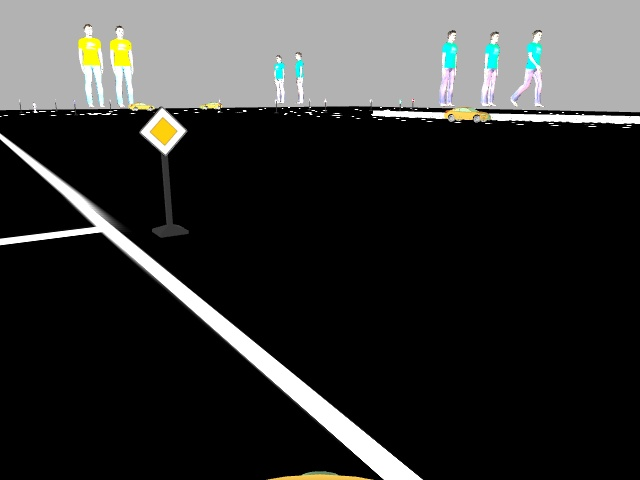Priority: (141, 105, 184, 155)
